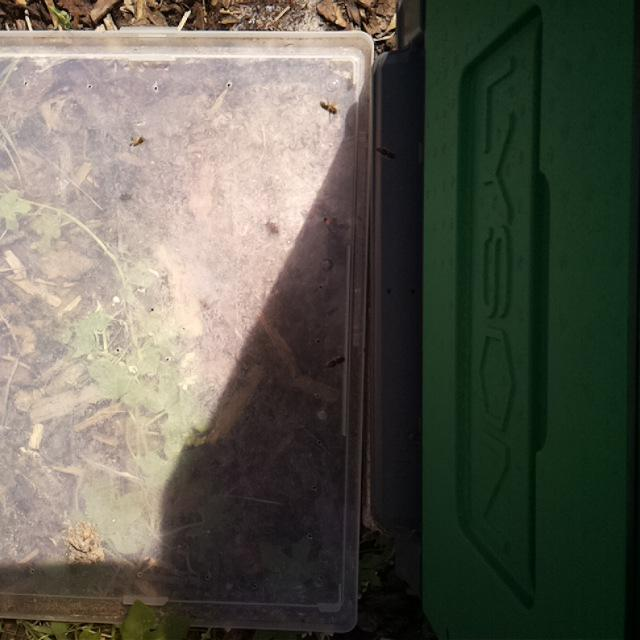worker-bee: (371, 142, 404, 169), (322, 346, 349, 374), (315, 96, 338, 120), (124, 131, 148, 152)
